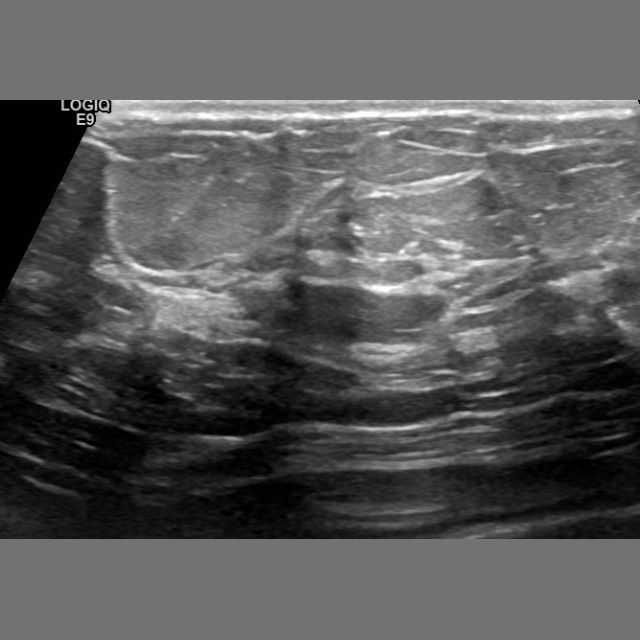cancer: (62, 251, 632, 525)
